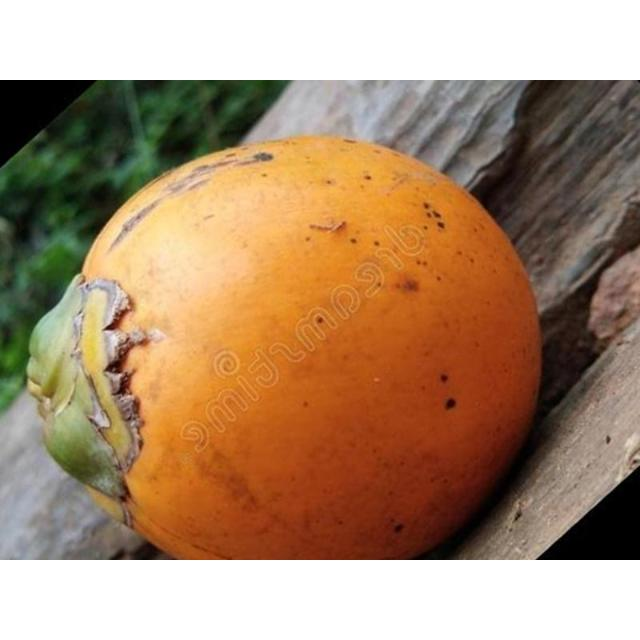good: (24, 134, 543, 559)
